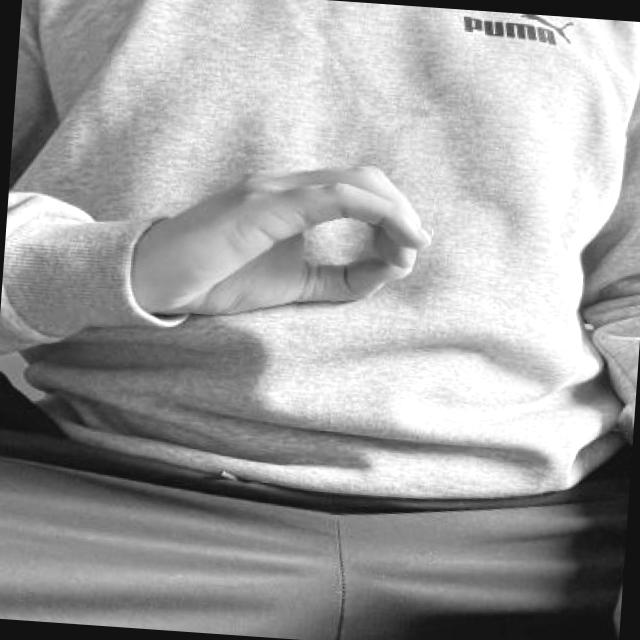O: (145, 116, 439, 330)
